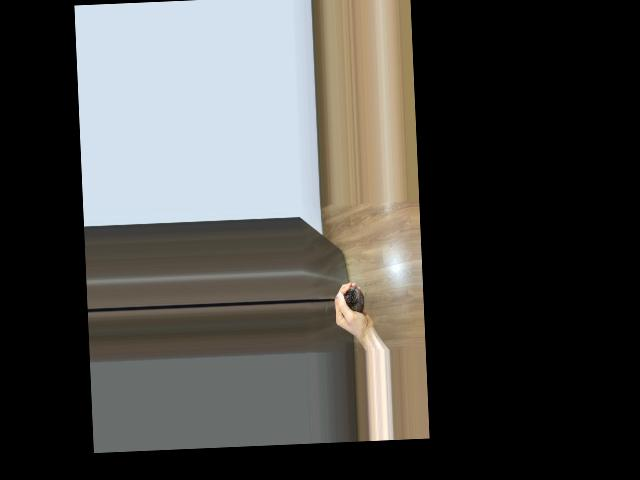beet: (324, 285, 365, 314)
